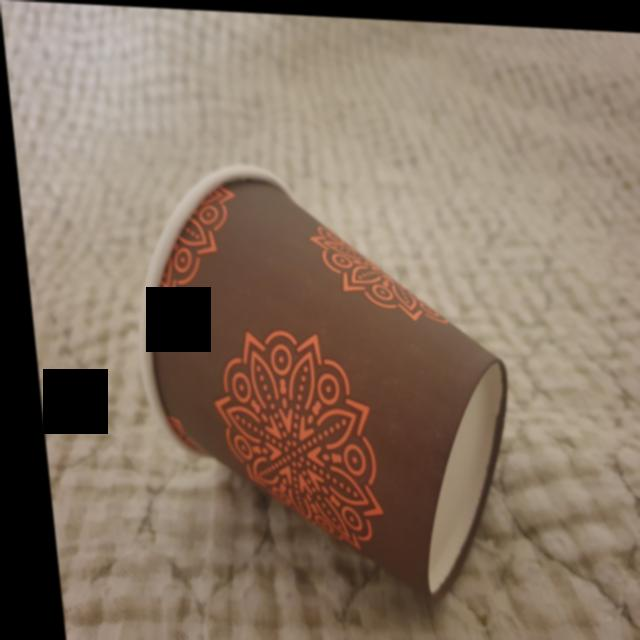cups: (108, 145, 531, 615)
